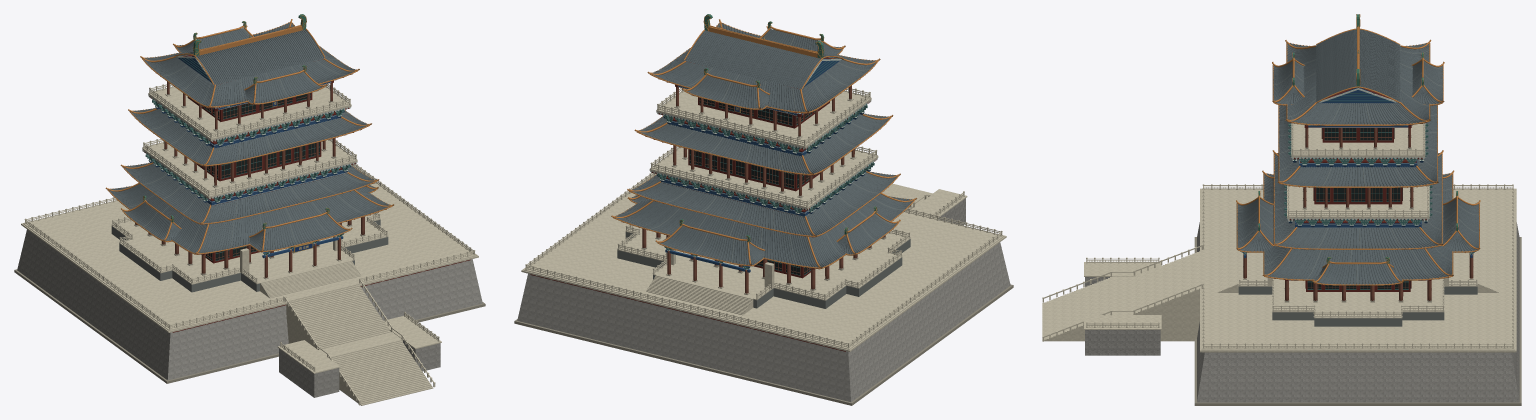
The model's file is guanque-fast.glb.
3 renders of one model, left to right at view 1: azimuth 30°, elevation 25°; view 2: azimuth 150°, elevation 25°; view 3: azimuth 270°, elevation 25°, orthographic. The views are drawn at different scales.
Parts seen in each view (by area): view 1: 台基与外阶 · 内分三层 · podium · 石材 · 暖白石灰石, 台基与外阶 · 内分三层 · podium · 台基 · 灰砖包砌, 下部楼身 · 一至三层 · structure · 筒瓦 · 灰陶细纹, 下部楼身 · 一至三层 · tile · 筒瓦 · 灰陶细纹, 下部楼身 · 一至三层 · structure · 石材 · 暖白石灰石, 上部楼身 · 六层与屋顶 · tile · 筒瓦 · 灰陶细纹, 上部楼身 · 六层与屋顶 · structure · 筒瓦 · 灰陶细纹, 上部楼身 · 六层与屋顶 · structure · 石材 · 暖白石灰石, 中部楼身 · 四至五层 · structure · 石材 · 暖白石灰石, 中部楼身 · 四至五层 · structure · 筒瓦 · 灰陶细纹, 中部楼身 · 四至五层 · tile · 筒瓦 · 灰陶细纹, 下部楼身 · 一至三层 · structure · 瓦口与脊饰 · 赭金琉璃 (+19 smaller); view 2: 台基与外阶 · 内分三层 · podium · 台基 · 灰砖包砌, 台基与外阶 · 内分三层 · podium · 石材 · 暖白石灰石, 下部楼身 · 一至三层 · structure · 筒瓦 · 灰陶细纹, 下部楼身 · 一至三层 · tile · 筒瓦 · 灰陶细纹, 下部楼身 · 一至三层 · structure · 石材 · 暖白石灰石, 上部楼身 · 六层与屋顶 · structure · 筒瓦 · 灰陶细纹, 上部楼身 · 六层与屋顶 · tile · 筒瓦 · 灰陶细纹, 上部楼身 · 六层与屋顶 · structure · 石材 · 暖白石灰石, 中部楼身 · 四至五层 · structure · 石材 · 暖白石灰石, 中部楼身 · 四至五层 · structure · 筒瓦 · 灰陶细纹, 中部楼身 · 四至五层 · tile · 筒瓦 · 灰陶细纹, 台基与外阶 · 内分三层 · podium · 石材 · 基脚阴线 (+20 smaller); view 3: 台基与外阶 · 内分三层 · podium · 石材 · 暖白石灰石, 台基与外阶 · 内分三层 · podium · 台基 · 灰砖包砌, 下部楼身 · 一至三层 · structure · 筒瓦 · 灰陶细纹, 下部楼身 · 一至三层 · tile · 筒瓦 · 灰陶细纹, 上部楼身 · 六层与屋顶 · tile · 筒瓦 · 灰陶细纹, 下部楼身 · 一至三层 · structure · 石材 · 暖白石灰石, 上部楼身 · 六层与屋顶 · structure · 筒瓦 · 灰陶细纹, 中部楼身 · 四至五层 · structure · 筒瓦 · 灰陶细纹, 中部楼身 · 四至五层 · tile · 筒瓦 · 灰陶细纹, 上部楼身 · 六层与屋顶 · structure · 石材 · 暖白石灰石, 中部楼身 · 四至五层 · structure · 石材 · 暖白石灰石, 下部楼身 · 一至三层 · structure · 瓦口与脊饰 · 赭金琉璃 (+19 smaller).
Part boxes in pixels (x1,y1,x2,y2): 台基与外阶 · 内分三层 · podium · 石材 · 暖白石灰石: (21,164,478,405); 台基与外阶 · 内分三层 · podium · 台基 · 灰砖包砌: (17,229,482,397); 下部楼身 · 一至三层 · structure · 筒瓦 · 灰陶细纹: (109,164,388,253); 下部楼身 · 一至三层 · tile · 筒瓦 · 灰陶细纹: (109,162,390,252); 下部楼身 · 一至三层 · structure · 石材 · 暖白石灰石: (111,213,388,298); 上部楼身 · 六层与屋顶 · tile · 筒瓦 · 灰陶细纹: (144,23,355,106); 上部楼身 · 六层与屋顶 · structure · 筒瓦 · 灰陶细纹: (144,23,352,106); 上部楼身 · 六层与屋顶 · structure · 石材 · 暖白石灰石: (148,84,351,140); 中部楼身 · 四至五层 · structure · 石材 · 暖白石灰石: (142,139,357,197); 中部楼身 · 四至五层 · structure · 筒瓦 · 灰陶细纹: (131,109,365,164); 中部楼身 · 四至五层 · tile · 筒瓦 · 灰陶细纹: (132,108,367,164); 下部楼身 · 一至三层 · structure · 瓦口与脊饰 · 赭金琉璃: (105,162,393,254); 台基与外阶 · 内分三层 · podium · 台基 · 灰砖包砌: (517,198,1010,401); 台基与外阶 · 内分三层 · podium · 石材 · 暖白石灰石: (521,173,1006,351); 下部楼身 · 一至三层 · structure · 筒瓦 · 灰陶细纹: (618,172,912,267); 下部楼身 · 一至三层 · tile · 筒瓦 · 灰陶细纹: (615,171,912,267); 下部楼身 · 一至三层 · structure · 石材 · 暖白石灰石: (617,224,910,315); 上部楼身 · 六层与屋顶 · structure · 筒瓦 · 灰陶细纹: (654,23,875,111); 上部楼身 · 六层与屋顶 · tile · 筒瓦 · 灰陶细纹: (652,23,876,111); 上部楼身 · 六层与屋顶 · structure · 石材 · 暖白石灰石: (656,88,871,147); 中部楼身 · 四至五层 · structure · 石材 · 暖白石灰石: (649,146,878,208); 中部楼身 · 四至五层 · structure · 筒瓦 · 灰陶细纹: (641,115,889,173); 中部楼身 · 四至五层 · tile · 筒瓦 · 灰陶细纹: (639,113,889,173); 台基与外阶 · 内分三层 · podium · 石材 · 基脚阴线: (514,284,1013,405); 台基与外阶 · 内分三层 · podium · 石材 · 暖白石灰石: (1042,184,1516,352); 台基与外阶 · 内分三层 · podium · 台基 · 灰砖包砌: (1085,222,1519,402); 下部楼身 · 一至三层 · structure · 筒瓦 · 灰陶细纹: (1237,154,1478,284); 下部楼身 · 一至三层 · tile · 筒瓦 · 灰陶细纹: (1237,153,1479,284); 上部楼身 · 六层与屋顶 · tile · 筒瓦 · 灰陶细纹: (1273,29,1443,124); 下部楼身 · 一至三层 · structure · 石材 · 暖白石灰石: (1217,236,1498,318); 上部楼身 · 六层与屋顶 · structure · 筒瓦 · 灰陶细纹: (1273,30,1442,124); 中部楼身 · 四至五层 · structure · 筒瓦 · 灰陶细纹: (1279,105,1436,186); 中部楼身 · 四至五层 · tile · 筒瓦 · 灰陶细纹: (1279,105,1437,186); 上部楼身 · 六层与屋顶 · structure · 石材 · 暖白石灰石: (1291,123,1425,157); 中部楼身 · 四至五层 · structure · 石材 · 暖白石灰石: (1287,185,1429,218); 下部楼身 · 一至三层 · structure · 瓦口与脊饰 · 赭金琉璃: (1236,150,1480,285).
Size of the model in its own units: 94 by 73.9 by 114.
Materials: 20 (5 with a texture image).
